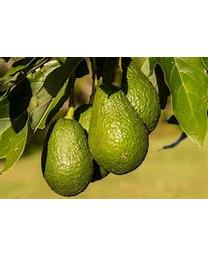avocado: (87, 83, 149, 176), (39, 117, 93, 197)
